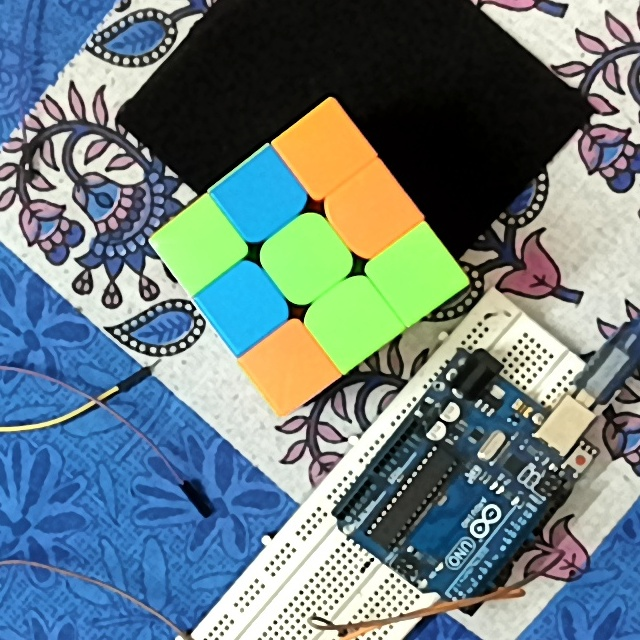tile: (327, 295, 377, 352), (296, 126, 354, 175), (263, 343, 318, 394), (279, 236, 332, 286), (231, 173, 284, 222), (392, 248, 440, 301), (175, 218, 221, 271), (222, 281, 270, 331), (348, 187, 394, 239)
